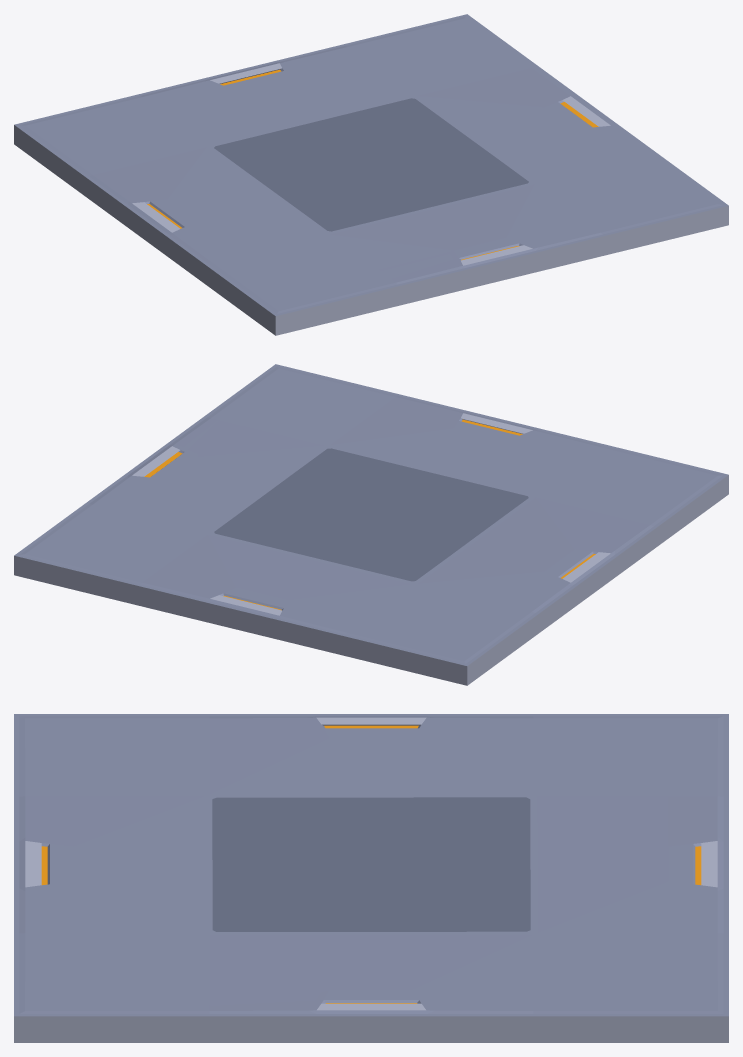
File: Floor3.FBX
3 renders of one model, top to bottom at view 1: azimuth 30°, elevation 25°; view 2: azimuth 150°, elevation 25°; view 3: azimuth 270°, elevation 25°, orthographic. The views are drawn at different scales.
Visible parts, largest first — view 1: Floor3; view 2: Floor3; view 3: Floor3.
Boxes of the visible parts, <box> form: Floor3: <box>14,14,728,335</box>; Floor3: <box>14,364,728,685</box>; Floor3: <box>14,714,728,1042</box>.
Size of the model in its own units: 39.88 by 1.71 by 39.88.
